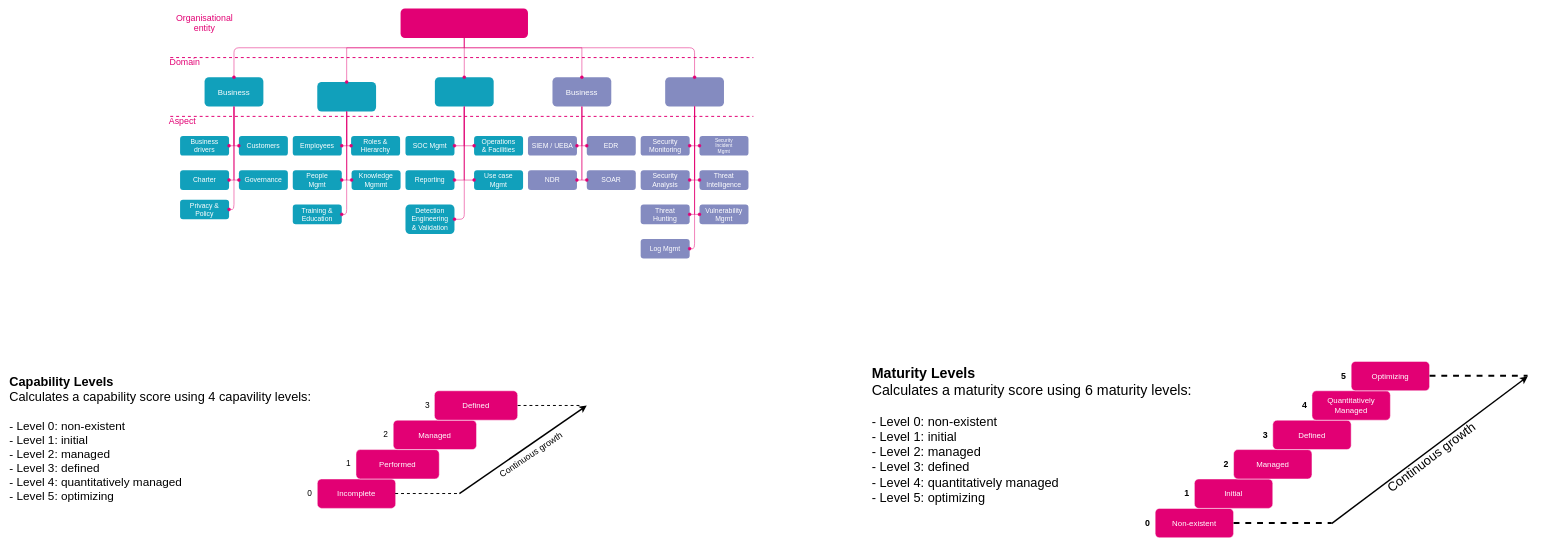
The diagram is 1541 pixels wide and 546 high, and some of its shapes have lost their labels. The centre of each missing label's shape, as x and y in pixels:
People: [346,96]
Process: [464,91]
Security Operations Center: [464,23]
Services: [694,91]
